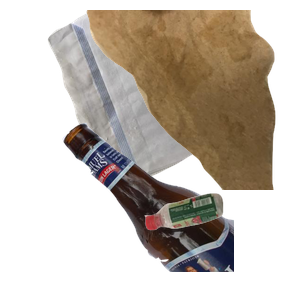glass: (60, 120, 300, 300)
paper: (45, 10, 251, 190)
plastic: (142, 191, 300, 300)
trash: (84, 10, 300, 190)
